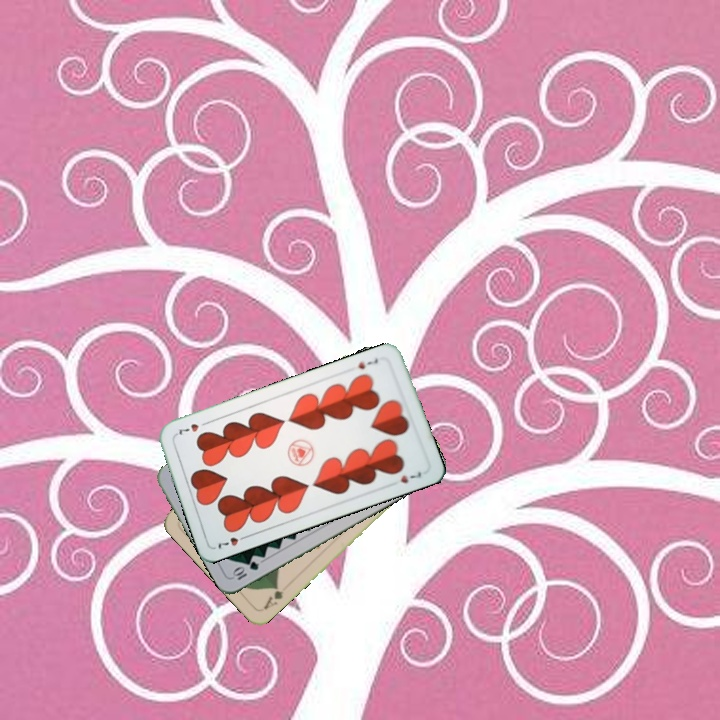G10: (229, 557, 261, 583)
GA: (259, 582, 285, 612)
H7: (214, 531, 251, 552), (354, 355, 380, 372)
